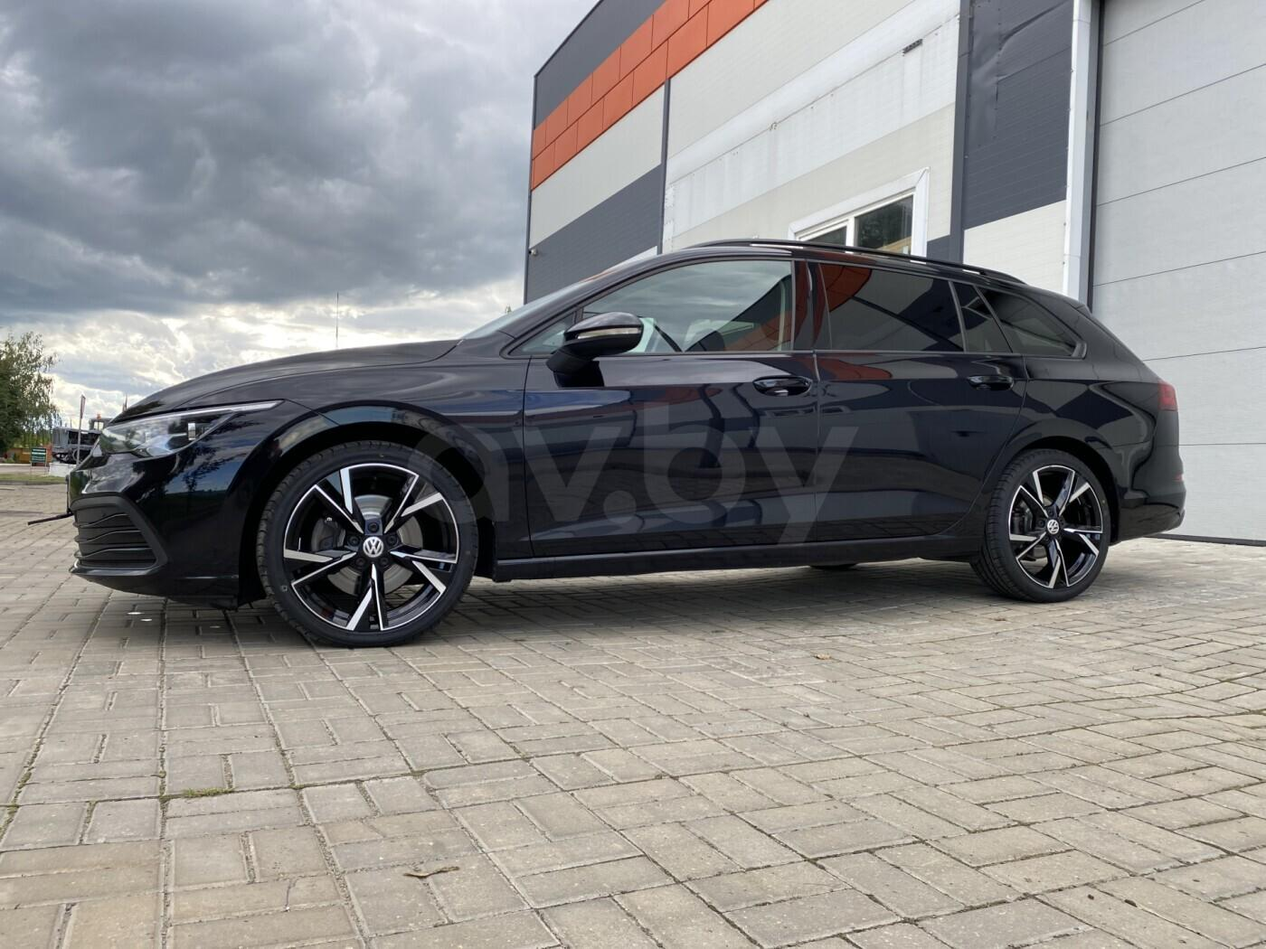Golf_2019: (63, 243, 1182, 657)
